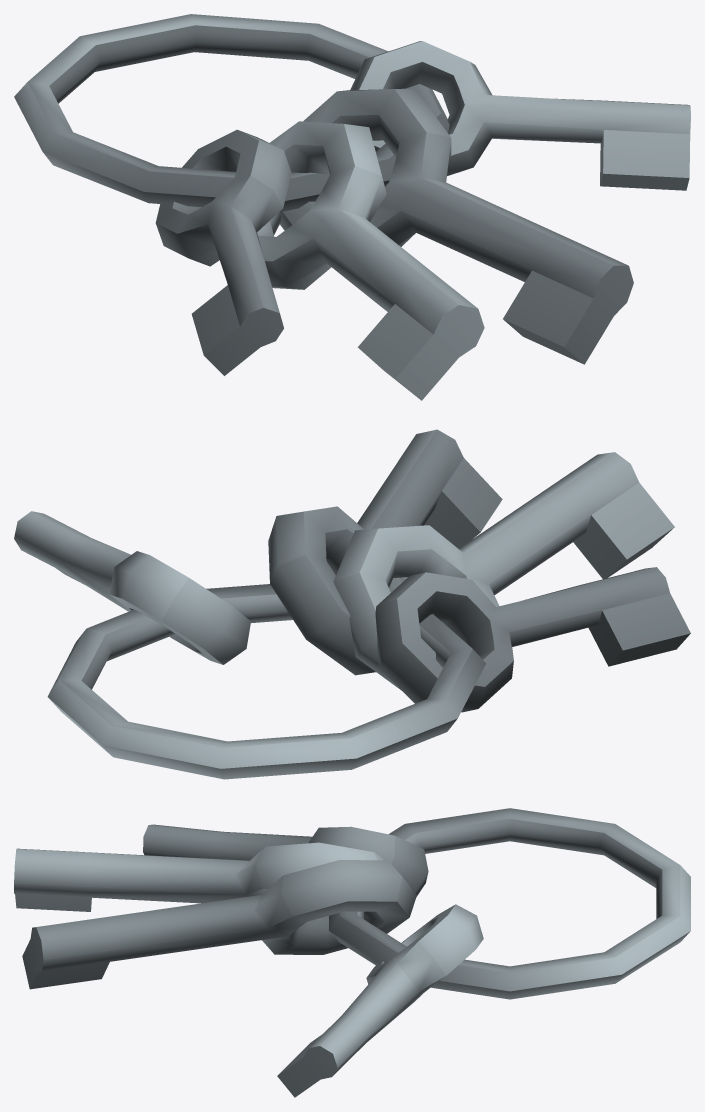
The model's file is prop_keyring.glb.
3 views of the same model, one above another, from view 1: azimuth 30°, elevation 25°; view 2: azimuth 150°, elevation 25°; view 3: azimuth 270°, elevation 25° (orthographic). The views are drawn at different scales.
Parts seen in each view (by area): view 1: keyring; view 2: keyring; view 3: keyring.
Part boxes in pixels (x1,y1,x2,y2): keyring: [14, 14, 690, 400]; keyring: [14, 429, 690, 779]; keyring: [14, 808, 690, 1097].
Size of the model in its own units: 1.03 by 0.2614 by 1.21.
Materials: 1 (1 with a texture image).
